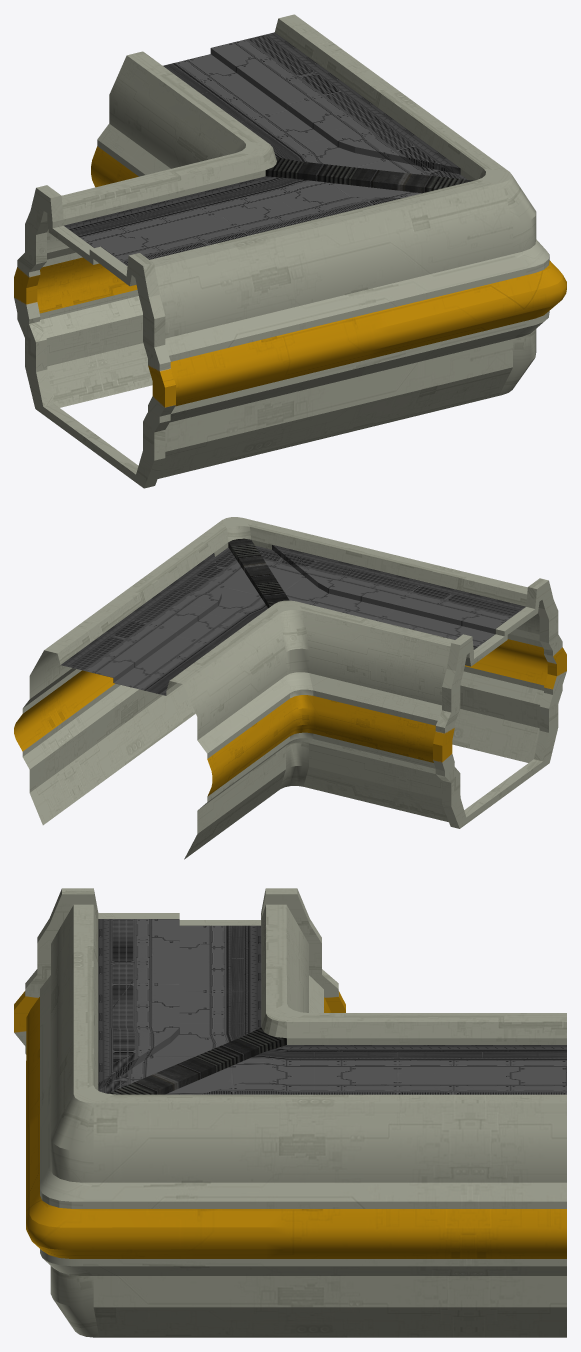
The model's file is BandaTransporteEsquina.fbx.
The picture shows the model from 3 angles, top to bottom: view 1: azimuth 30°, elevation 25°; view 2: azimuth 150°, elevation 25°; view 3: azimuth 270°, elevation 25°; orthographic projection. The views are drawn at different scales.
Visible parts, largest first — view 1: Cube.223, Cube.230, Cube.219; view 2: Cube.223, Cube.230, Cube.219; view 3: Cube.223, Cube.230, Cube.219.
Boxes of the visible parts, <box> form: Cube.223: <box>37,14,566,478</box>; Cube.230: <box>64,32,467,265</box>; Cube.219: <box>14,185,175,488</box>; Cube.223: <box>14,517,547,859</box>; Cube.230: <box>61,545,525,695</box>; Cube.219: <box>433,578,566,828</box>; Cube.223: <box>26,904,566,1337</box>; Cube.230: <box>98,919,566,1094</box>; Cube.219: <box>14,888,345,1054</box>.
Bounding box in the file's own units: 113 × 57.49 × 118.
